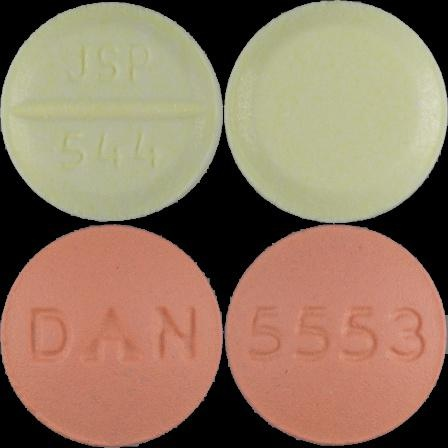50436-0324: (0, 0, 224, 224)
